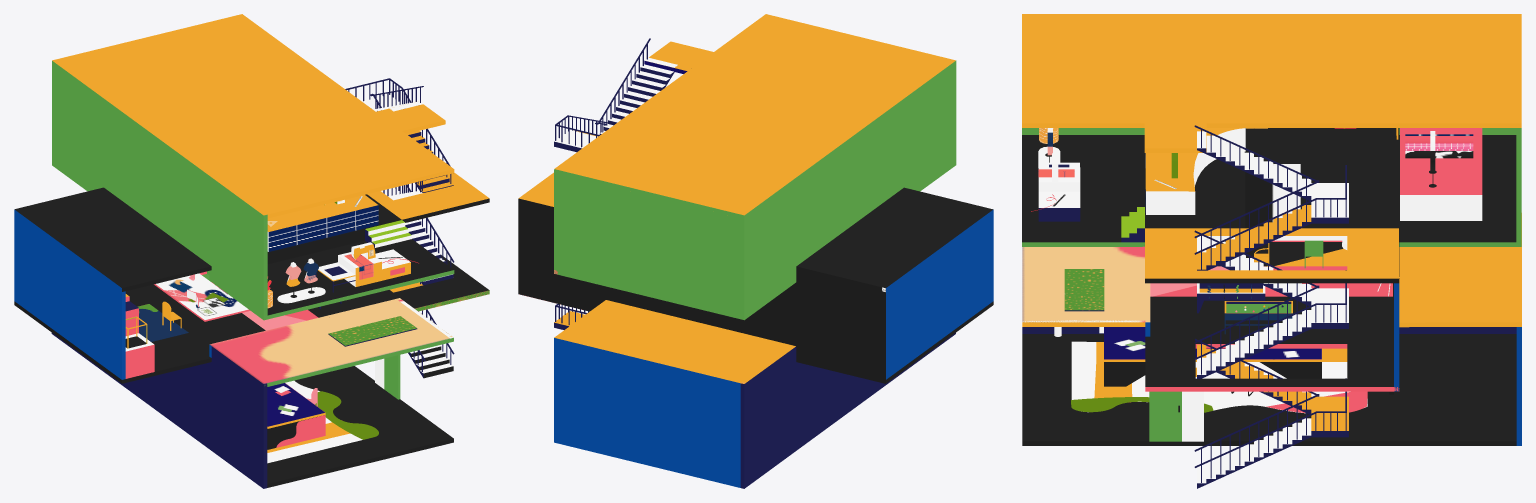
File: 服装大楼.fbx
3 views of the same model, side by side, from view 1: azimuth 30°, elevation 25°; view 2: azimuth 150°, elevation 25°; view 3: azimuth 270°, elevation 25° (orthographic). The views are drawn at different scales.
Parts seen in each view (by area): view 1: 布尔_2, 挤压_1, 挤压_5, 右侧地毯, 桌子, L桌子, 楼梯_2, 楼梯_1, 操作台, 顶_草地, 楼梯_2_2, 左下机器 (+5 smaller); view 2: 布尔_2, 楼梯_2, 右侧地毯; view 3: 布尔_2, 楼梯_2, 右侧地毯, 楼梯_2_2, 楼梯_1, 挤压_5, 展示台, 桌子, 挤压_1, 门_2, 地毯, 操作台 (+5 smaller).
Boxes of the visible parts, x1,y1,x2,y2 form: 布尔_2: (14, 14, 489, 488); 挤压_1: (267, 195, 378, 251); 挤压_5: (267, 380, 378, 463); 右侧地毯: (367, 173, 489, 219); 桌子: (267, 383, 325, 449); L桌子: (154, 273, 250, 321); 楼梯_2: (345, 78, 453, 192); 楼梯_1: (381, 181, 454, 285); 操作台: (338, 249, 410, 286); 顶_草地: (328, 316, 417, 346); 楼梯_2_2: (390, 282, 454, 378); 左下机器: (125, 333, 154, 378); 布尔_2: (518, 14, 993, 488); 楼梯_2: (554, 38, 677, 152); 右侧地毯: (518, 172, 553, 206); 布尔_2: (1022, 14, 1521, 445); 楼梯_2: (1194, 125, 1348, 270); 右侧地毯: (1145, 228, 1398, 278); 楼梯_2_2: (1194, 338, 1348, 488); 楼梯_1: (1194, 230, 1348, 378); 挤压_5: (1071, 341, 1367, 413); 展示台: (1400, 128, 1482, 220); 桌子: (1104, 327, 1321, 386); 挤压_1: (1145, 128, 1245, 214); 门_2: (1149, 367, 1203, 441); 地毯: (1150, 248, 1392, 296); 操作台: (1038, 167, 1080, 221).
Size of the model in its own units: 1468 by 1119 by 1466.
